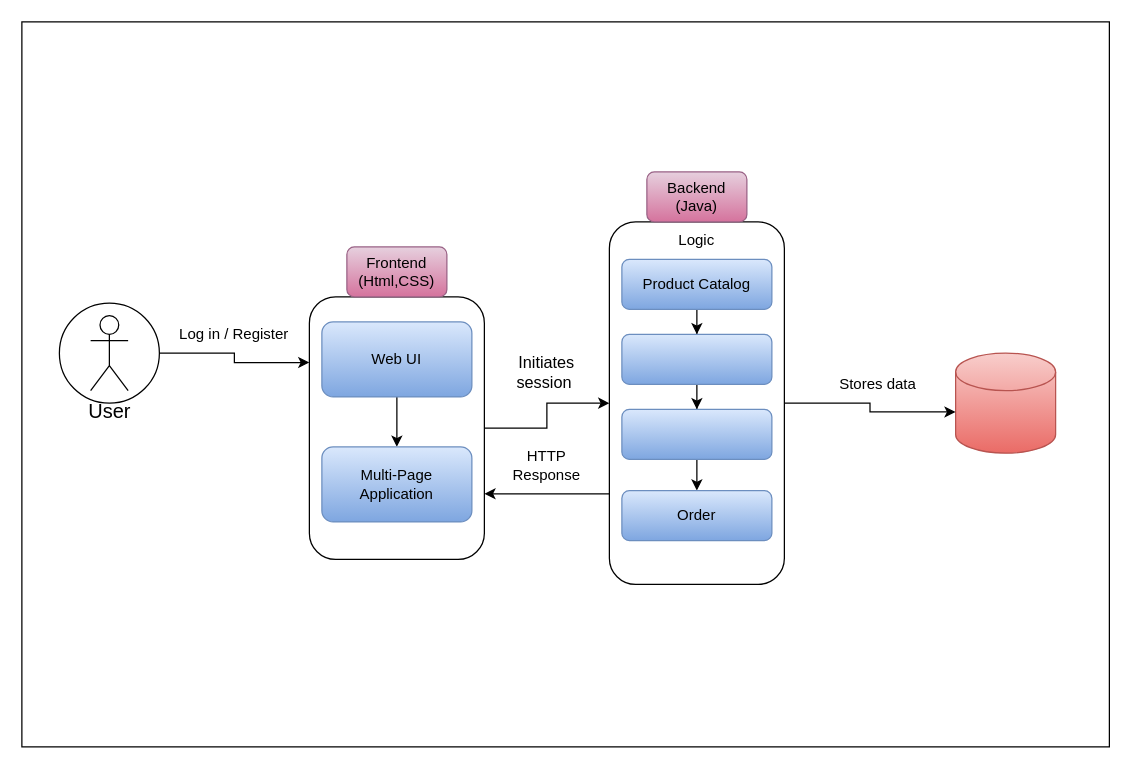
Some shapes in this 1131 by 769 pixel diagram are drawn without their labels. The shapes that lost their labels are listed below. From the top down, each one's box as (x1, y1, x2, y2) in pixels, then its label:
(621, 333, 772, 384): Discount Service
(954, 352, 1056, 453): Database (MySql)
(621, 408, 772, 459): Add to Cart
